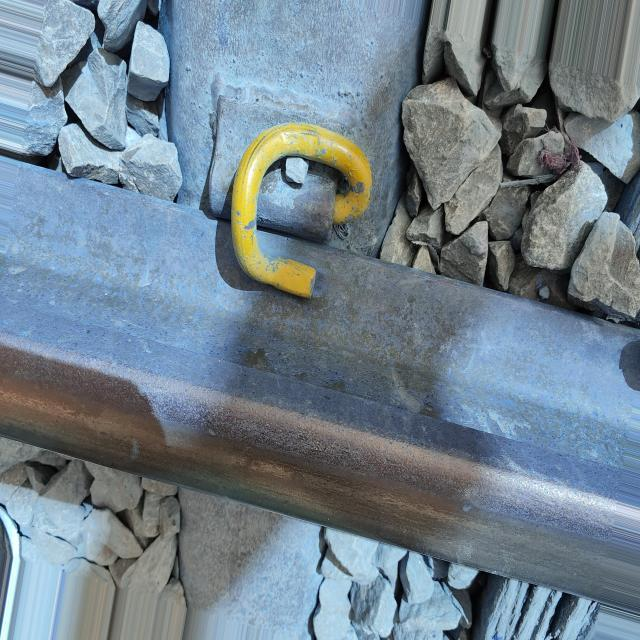Good Fasteners: (208, 96, 372, 297)
